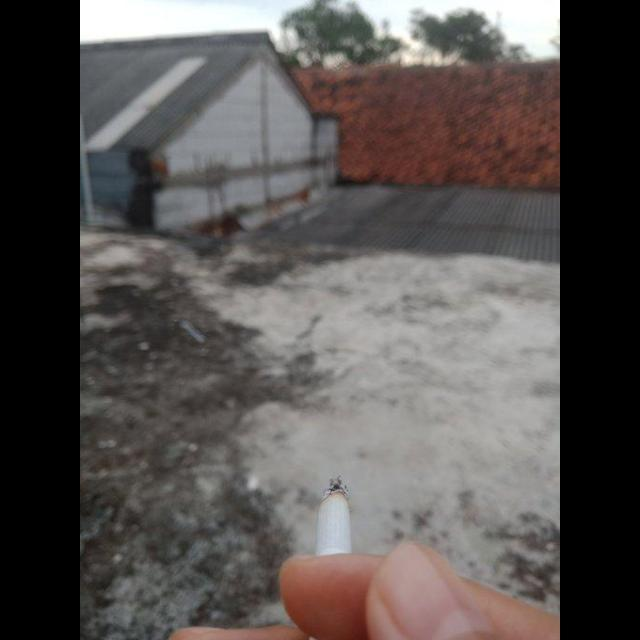rokok: (308, 467, 364, 561)
